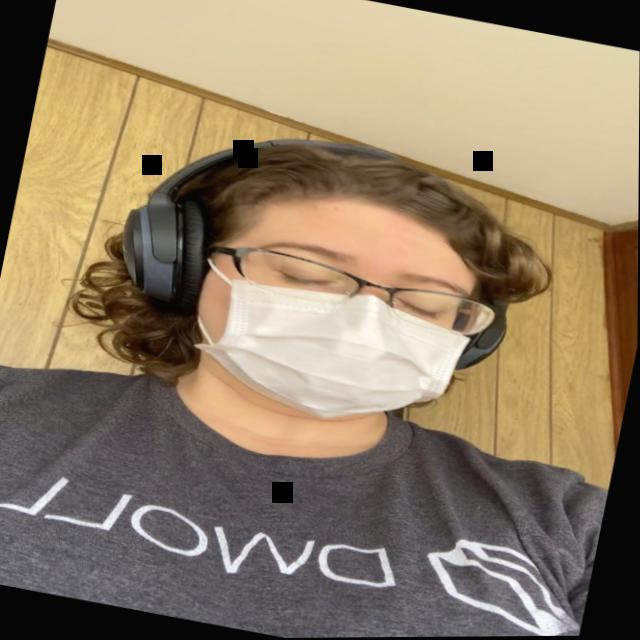Mask: (185, 182, 490, 448)
